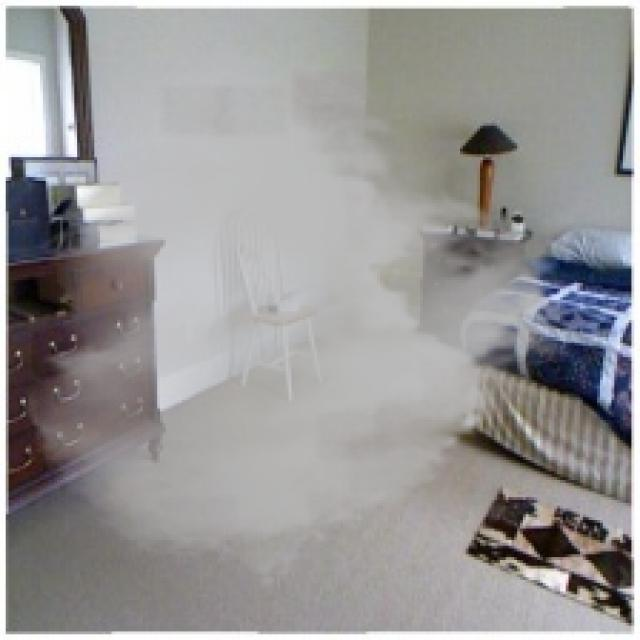smoke: (23, 54, 586, 589)
